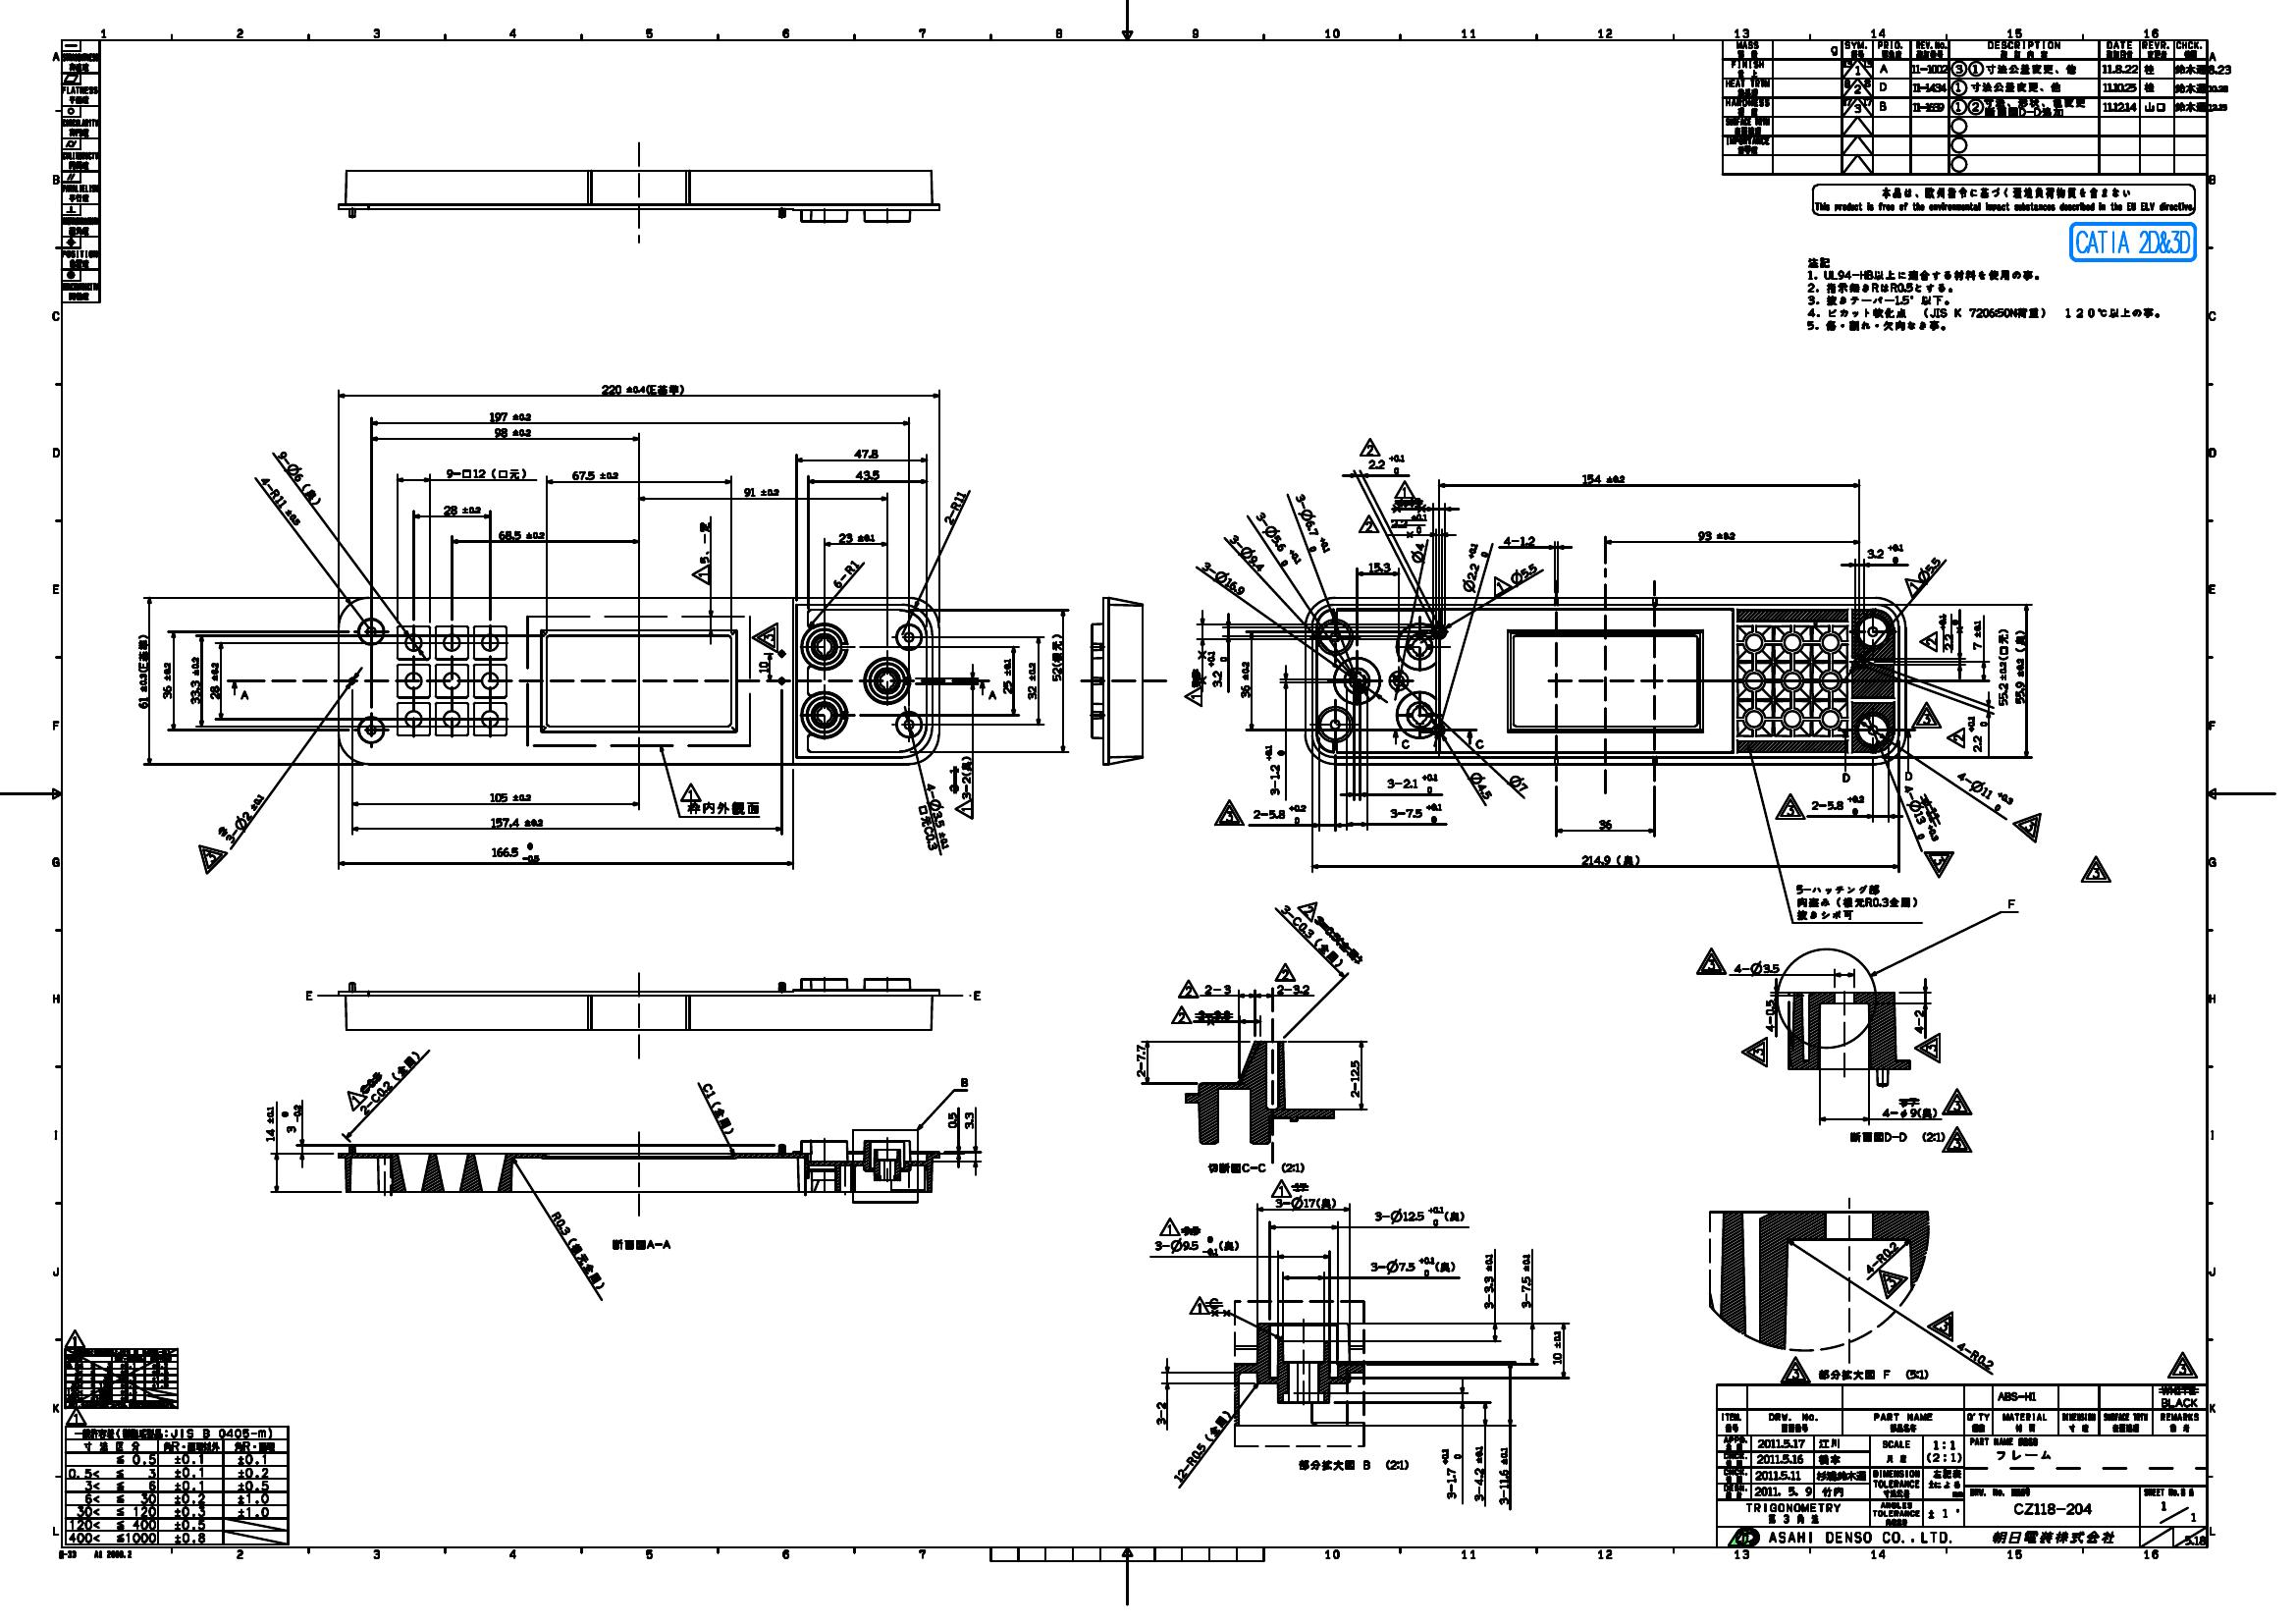anntotation_text: (1802, 255, 2164, 334), (1809, 183, 2196, 216), (2069, 220, 2198, 264), (1792, 881, 1920, 921), (1205, 1160, 1305, 1176), (1296, 1457, 1409, 1471), (1816, 1367, 1932, 1380), (1848, 1130, 1948, 1144), (2076, 852, 2117, 884), (683, 800, 761, 816), (608, 1236, 671, 1253), (1776, 1353, 1811, 1385), (2015, 807, 2048, 838), (1692, 946, 1727, 975), (1924, 849, 1955, 881), (1939, 1086, 1973, 1116), (1910, 700, 1943, 729), (2164, 1350, 2199, 1378), (193, 838, 223, 870), (1739, 1035, 1769, 1067), (750, 620, 780, 652), (1939, 1125, 1973, 1153), (1212, 798, 1245, 826), (1931, 1308, 1960, 1336), (1873, 1267, 1904, 1294), (1774, 793, 1806, 819), (1913, 1033, 1941, 1062), (1175, 977, 1200, 1000), (1186, 1294, 1210, 1316), (1356, 436, 1383, 457), (1274, 960, 1296, 982), (1943, 726, 1966, 749), (1168, 1004, 1191, 1025), (1298, 898, 1321, 919), (1158, 1216, 1182, 1236), (1391, 478, 1416, 497), (1270, 1178, 1291, 1199), (1491, 576, 1513, 598), (1918, 631, 1939, 652), (1182, 685, 1203, 707), (678, 782, 701, 801), (1356, 513, 1379, 533), (954, 798, 973, 821), (690, 564, 711, 584), (1901, 575, 1924, 592), (343, 1090, 364, 1107), (1397, 735, 1414, 750), (2004, 895, 2018, 914), (957, 1074, 971, 1090), (302, 986, 314, 1004), (1472, 736, 1484, 752), (971, 986, 984, 1002), (239, 687, 249, 701), (986, 689, 996, 701)
dimension_text: (1372, 1202, 1467, 1229), (1151, 1234, 1240, 1258), (1368, 1253, 1456, 1278), (1275, 513, 1346, 536), (1950, 779, 2018, 801), (531, 1241, 625, 1257), (1384, 800, 1444, 824), (1384, 770, 1439, 796), (1158, 1438, 1247, 1454), (597, 381, 685, 397), (1439, 1445, 1463, 1501), (1885, 805, 1950, 826), (346, 1076, 432, 1091), (1249, 801, 1307, 824), (1808, 793, 1866, 816), (1244, 531, 1312, 550), (488, 840, 541, 865), (1263, 742, 1286, 798), (1994, 627, 2010, 707), (2011, 627, 2027, 707), (1268, 928, 1356, 942), (443, 466, 525, 480), (1446, 557, 1500, 578), (135, 633, 149, 710), (1864, 541, 1906, 566), (1272, 1195, 1337, 1211), (1880, 1104, 1938, 1121), (1964, 712, 1987, 756), (1579, 851, 1641, 866), (1365, 452, 1407, 475), (1497, 1445, 1513, 1504), (265, 471, 332, 485), (901, 808, 975, 821), (1205, 647, 1226, 689), (488, 814, 545, 830), (249, 494, 313, 508), (690, 1100, 747, 1116), (186, 652, 202, 707), (214, 810, 274, 824), (1470, 1443, 1484, 1503), (279, 1102, 304, 1135), (1518, 1251, 1532, 1309), (1481, 1251, 1495, 1309), (1732, 958, 1781, 974), (1198, 571, 1251, 585), (1233, 659, 1251, 701), (694, 522, 711, 564), (1221, 545, 1274, 559), (487, 408, 532, 424), (495, 527, 546, 541), (569, 468, 618, 482), (1952, 1348, 2001, 1362), (487, 789, 534, 803), (1049, 631, 1061, 684), (160, 657, 174, 703), (741, 483, 782, 499), (1549, 1327, 1565, 1367), (1024, 659, 1038, 703), (936, 501, 975, 517), (903, 821, 952, 833), (207, 659, 221, 701), (1579, 471, 1627, 483), (834, 529, 875, 543), (1346, 1058, 1360, 1098), (1463, 779, 1498, 794), (1131, 1042, 1147, 1077), (827, 568, 866, 582), (262, 1104, 276, 1142), (1500, 533, 1539, 547), (959, 754, 971, 798), (1693, 529, 1737, 541), (1967, 619, 1983, 652), (1913, 561, 1946, 576), (1274, 982, 1310, 997), (441, 504, 481, 517), (492, 425, 532, 438), (1001, 657, 1014, 696), (1764, 997, 1776, 1035), (848, 445, 882, 459), (1859, 1251, 1903, 1262), (1910, 1007, 1925, 1035), (1365, 559, 1393, 575), (1504, 775, 1530, 791), (1154, 1399, 1168, 1427), (1202, 982, 1233, 995), (854, 468, 882, 480), (959, 1109, 975, 1130), (1595, 816, 1614, 831), (945, 1109, 957, 1130), (1407, 547, 1428, 559)
object: (336, 596, 942, 766), (1303, 596, 1908, 765), (337, 1137, 940, 1195), (336, 167, 942, 223), (336, 977, 940, 1033), (1718, 1211, 1931, 1350), (1182, 1039, 1337, 1144), (1233, 1320, 1365, 1427), (1785, 990, 1915, 1088), (1089, 596, 1145, 766)
title_block: (1715, 1381, 2208, 1548), (1720, 37, 2208, 176), (63, 1425, 290, 1545), (60, 39, 102, 304)
